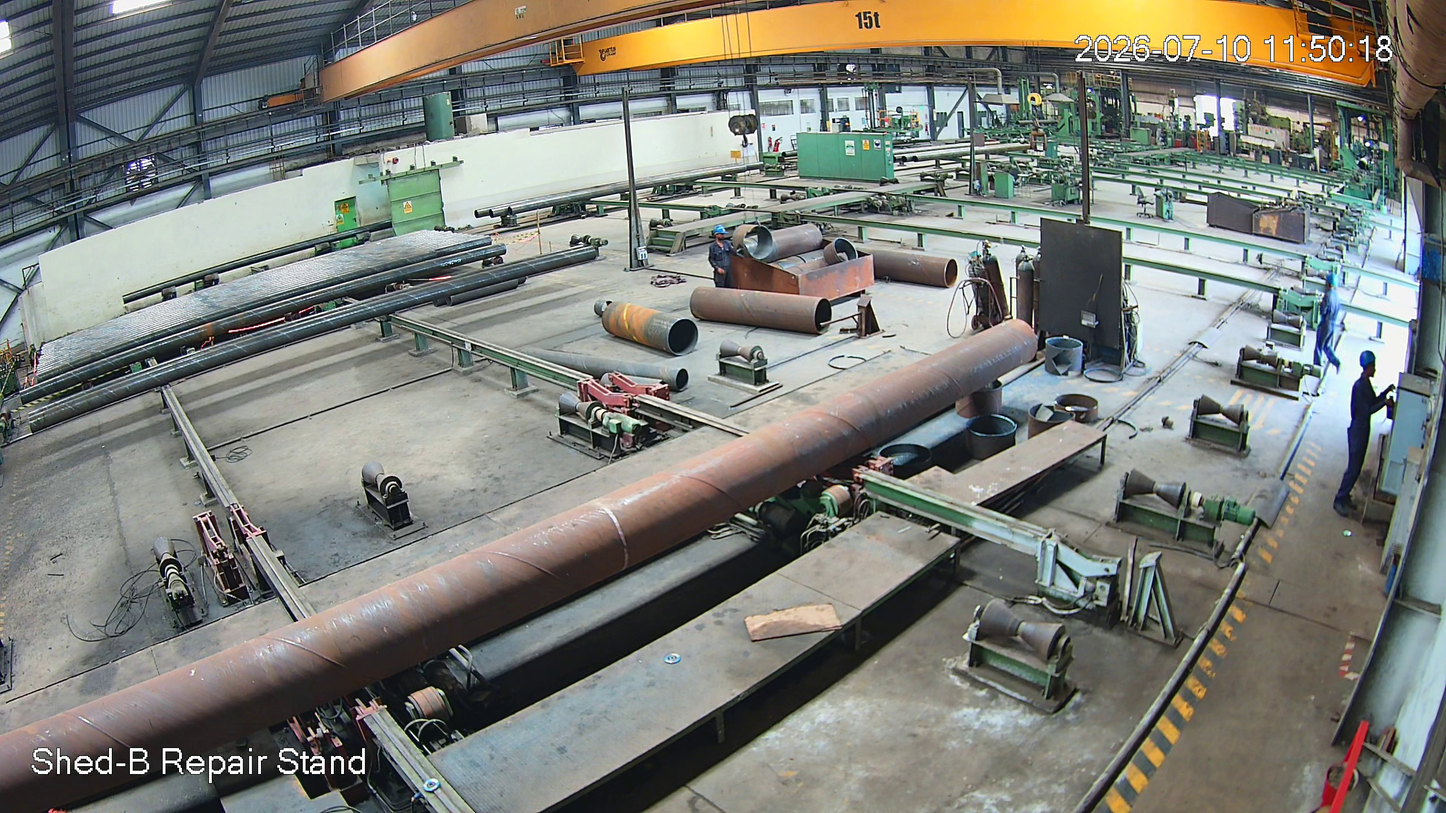Helmet: (1354, 345, 1381, 393), (711, 221, 735, 253), (1321, 268, 1340, 299)
Person: (1336, 351, 1393, 520), (1309, 272, 1346, 380), (703, 225, 740, 288)
